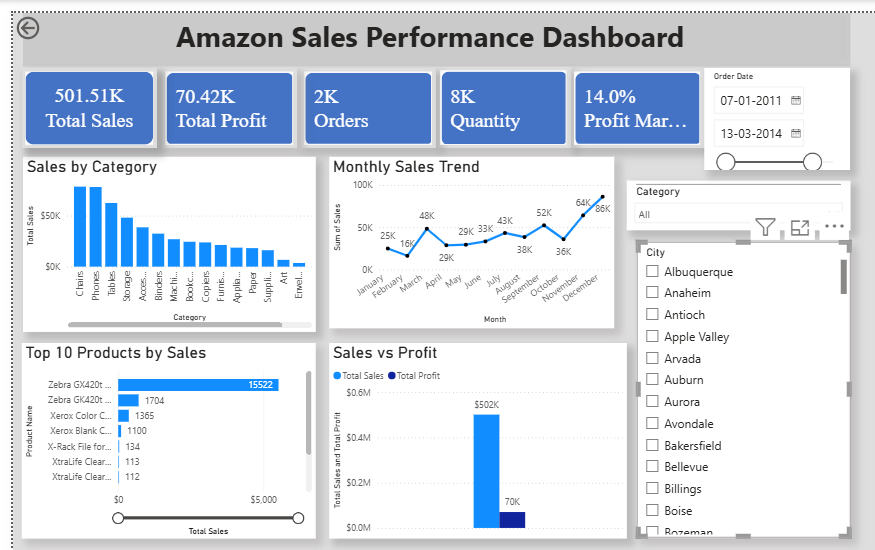

This screenshot's page, from the dashboard's own definition file:
{"tool":"powerbi","page":{"name":"Page 1","canvas":[1280,720],"ordinal":0},"visuals":[{"type":"cardVisual","fields":{"Data":["Walmart.Orders"]},"box":[383.5,73.3,180.7,107.4],"z":0},{"type":"cardVisual","fields":{"Data":["Sum(Walmart.Quantity)"]},"box":[564.2,71.6,179,109.1],"z":1000},{"type":"cardVisual","fields":{"Data":["Walmart.Total Profit"]},"box":[197.7,73.3,180.7,107.4],"z":2000},{"type":"cardVisual","fields":{"Data":["Walmart.Profit Margin"]},"box":[743.2,73.3,179,107.4],"z":3000},{"type":"clusteredColumnChart","title":"Sales by Category","fields":{"Category":["Walmart.Category"],"Y":["Walmart.Total Sales"]},"box":[13.6,190.9,390.3,233.5],"z":4000},{"type":"lineChart","title":"Monthly Sales Trend","fields":{"Category":["Walmart.Order Date.Variation.Date Hierarchy.Month"],"Y":["Sum(Walmart.Sales)"]},"box":[421,190.9,380.1,228.4],"z":5000},{"type":"barChart","title":"Top 10 Products by Sales","fields":{"Category":["Walmart.Product Name"],"Y":["Walmart.Total Sales"]},"box":[11.9,439.8,392.1,260.8],"z":6000},{"type":"clusteredColumnChart","title":"Sales vs Profit","fields":{"Y":["Walmart.Total Sales","Walmart.Total Profit"]},"box":[421,439.8,397.2,260.8],"z":7000},{"type":"slicer","fields":{"Values":["Walmart.Category"]},"box":[818.2,223.3,298.3,196],"z":8000},{"type":"slicer","fields":{"Values":["Walmart.Order Date"]},"box":[922.2,73.3,194.3,136.4],"z":9000},{"type":"slicer","fields":{"Values":["Walmart.State"]},"box":[831.8,439.8,284.7,260.8],"z":10000},{"type":"textbox","box":[1264.8,25.6,15.3,64.8],"z":11000},{"type":"cardVisual","fields":{"Data":["Walmart.Total Sales"]},"box":[11.9,73.3,180.7,107.4],"z":12000},{"type":"textbox","box":[13.6,0,1102.9,71.6],"z":13000}]}

Visuals, with their boxes on the page's 1280x720 design canvas (x1, y1, x2, y2). These are canvas units, not pixel positions in the 875x550 screenshot, which may show the page scaled, cropped or inside an application window:
cardVisual - Walmart.Orders: <region>384, 73, 564, 181</region>
cardVisual - Sum(Walmart.Quantity): <region>564, 72, 743, 181</region>
cardVisual - Walmart.Total Profit: <region>198, 73, 378, 181</region>
cardVisual - Walmart.Profit Margin: <region>743, 73, 922, 181</region>
"Sales by Category" clusteredColumnChart: <region>14, 191, 404, 424</region>
"Monthly Sales Trend" lineChart: <region>421, 191, 801, 419</region>
"Top 10 Products by Sales" barChart: <region>12, 440, 404, 701</region>
"Sales vs Profit" clusteredColumnChart: <region>421, 440, 818, 701</region>
slicer - Walmart.Category: <region>818, 223, 1116, 419</region>
slicer - Walmart.Order Date: <region>922, 73, 1116, 210</region>
slicer - Walmart.State: <region>832, 440, 1116, 701</region>
textbox: <region>1265, 26, 1280, 90</region>
cardVisual - Walmart.Total Sales: <region>12, 73, 193, 181</region>
textbox: <region>14, 0, 1116, 72</region>
